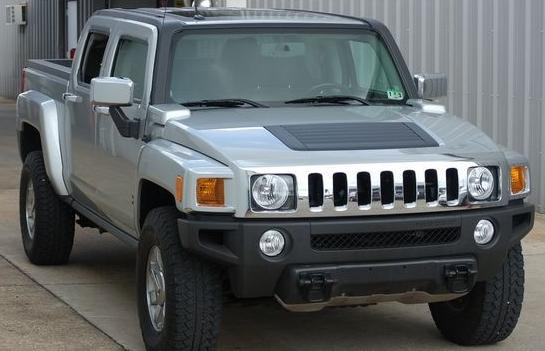front_view: (186, 146, 530, 326)
headlight: (188, 157, 302, 263)
side_glass: (75, 31, 155, 128)
